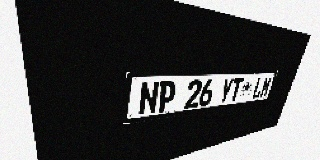2: (184, 79, 203, 109)
6: (198, 79, 216, 107)
L: (251, 77, 265, 99)
M: (259, 77, 273, 98)
N: (138, 81, 160, 116)
P: (157, 80, 177, 113)
T: (228, 78, 244, 102)
Y: (218, 78, 234, 104)
